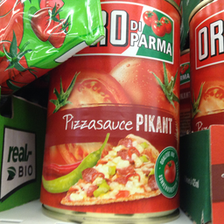tomato_sauce: (41, 1, 182, 224), (186, 1, 224, 121)
